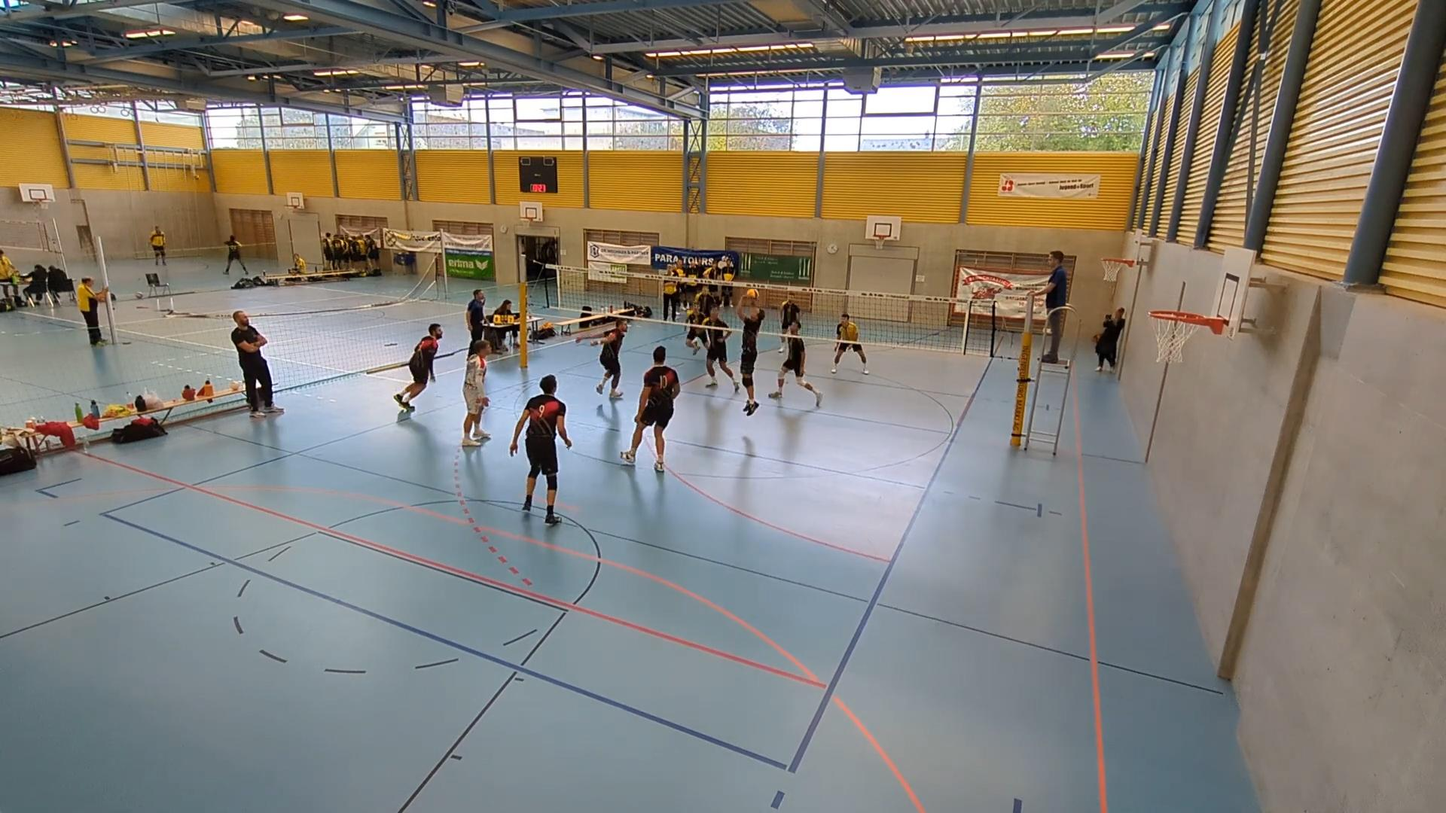Player: (509, 375, 572, 524), (621, 347, 680, 472), (769, 321, 821, 406), (394, 323, 442, 411), (703, 306, 740, 392), (461, 340, 490, 446), (591, 318, 627, 397), (831, 313, 868, 374), (685, 301, 705, 353), (780, 294, 800, 333), (694, 286, 718, 318)
Set: (735, 293, 769, 418)
ball: (742, 287, 759, 297)
